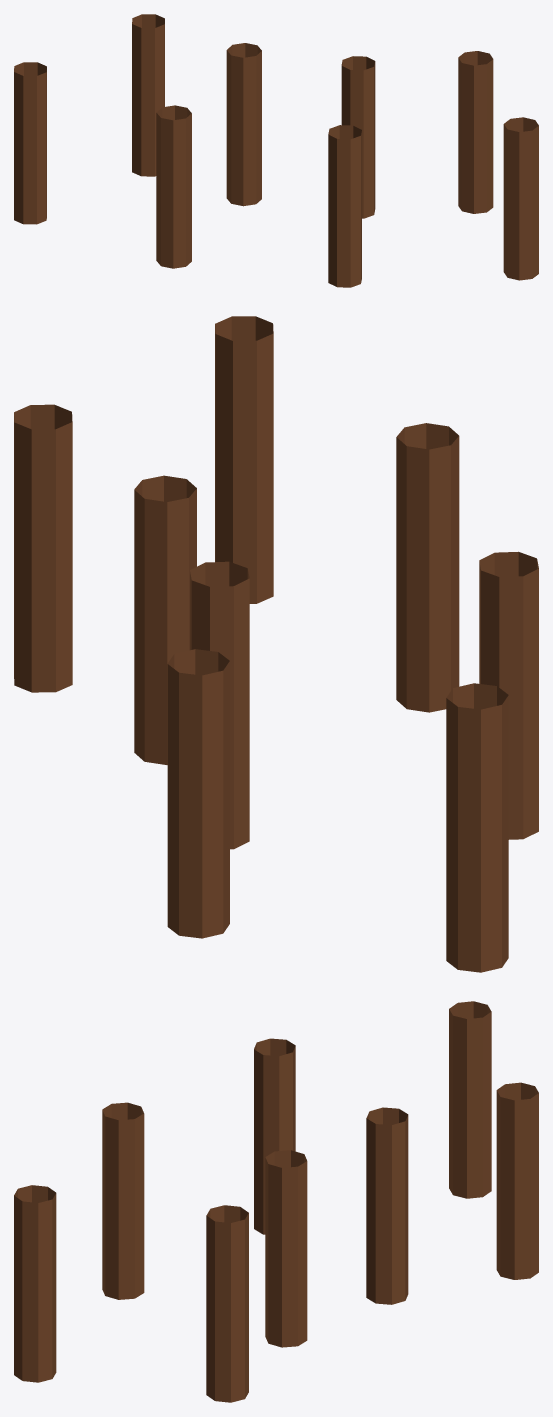
File: Track_Bridge_Curve_3x3_Piers.obj
3 renders of one model, top to bottom at view 1: azimuth 30°, elevation 25°; view 2: azimuth 150°, elevation 25°; view 3: azimuth 270°, elevation 25°, orthographic. The views are drawn at different scales.
Visible parts, largest first — view 1: Bridge_Pier; view 2: Bridge_Pier; view 3: Bridge_Pier.
Part boxes in pixels (x1=…): Bridge_Pier: x1=14, y1=14, x2=538, y2=287; Bridge_Pier: x1=14, y1=316, x2=538, y2=972; Bridge_Pier: x1=14, y1=1001, x2=538, y2=1402.
Bounding box in the file's own units: 2.65 × 1 × 2.65.
